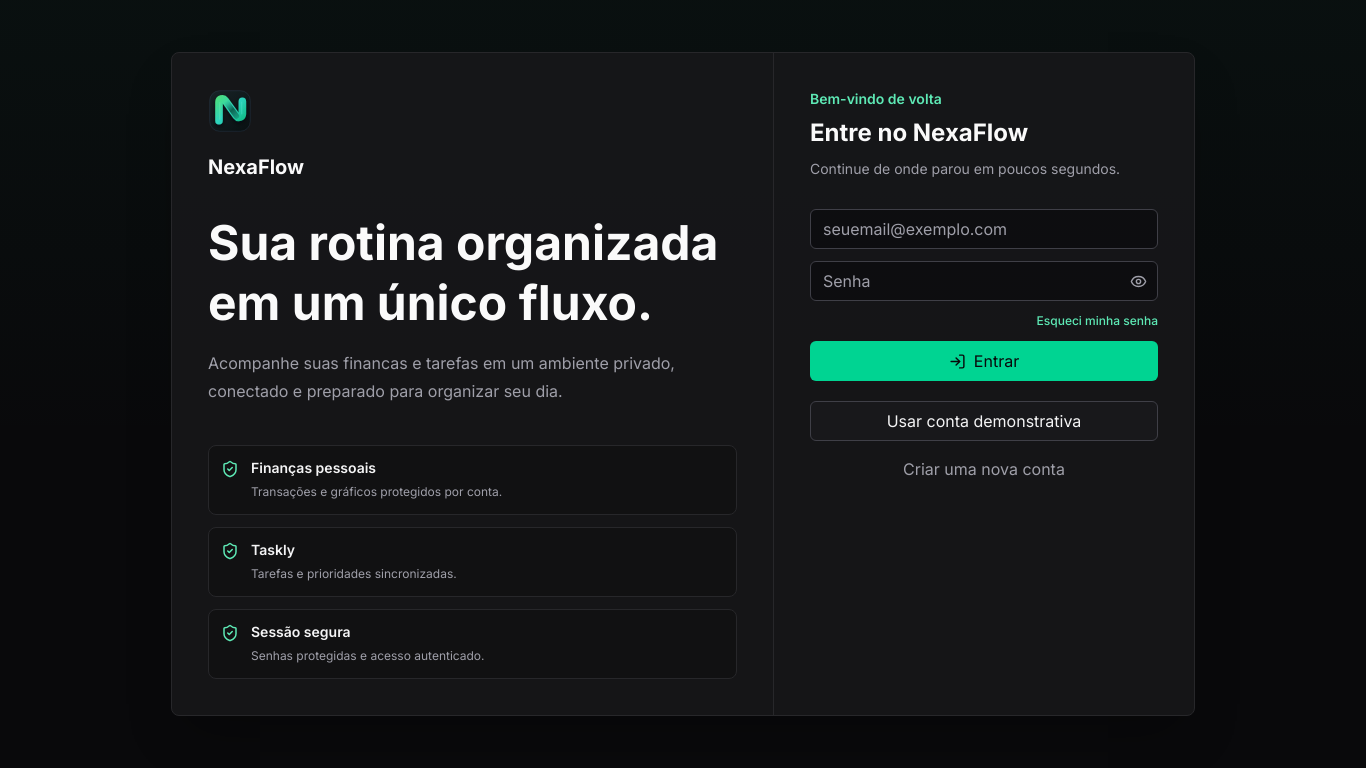
NexaFlow › exibe login e permite abrir o cadastro
Expected: the heading "Entre no NexaFlow" is shown, top-left (810, 118), bottom-right (1028, 147)
Click the button "Criar uma nova conta" at (984, 469), box top-left (810, 449), bottom-right (1158, 489)
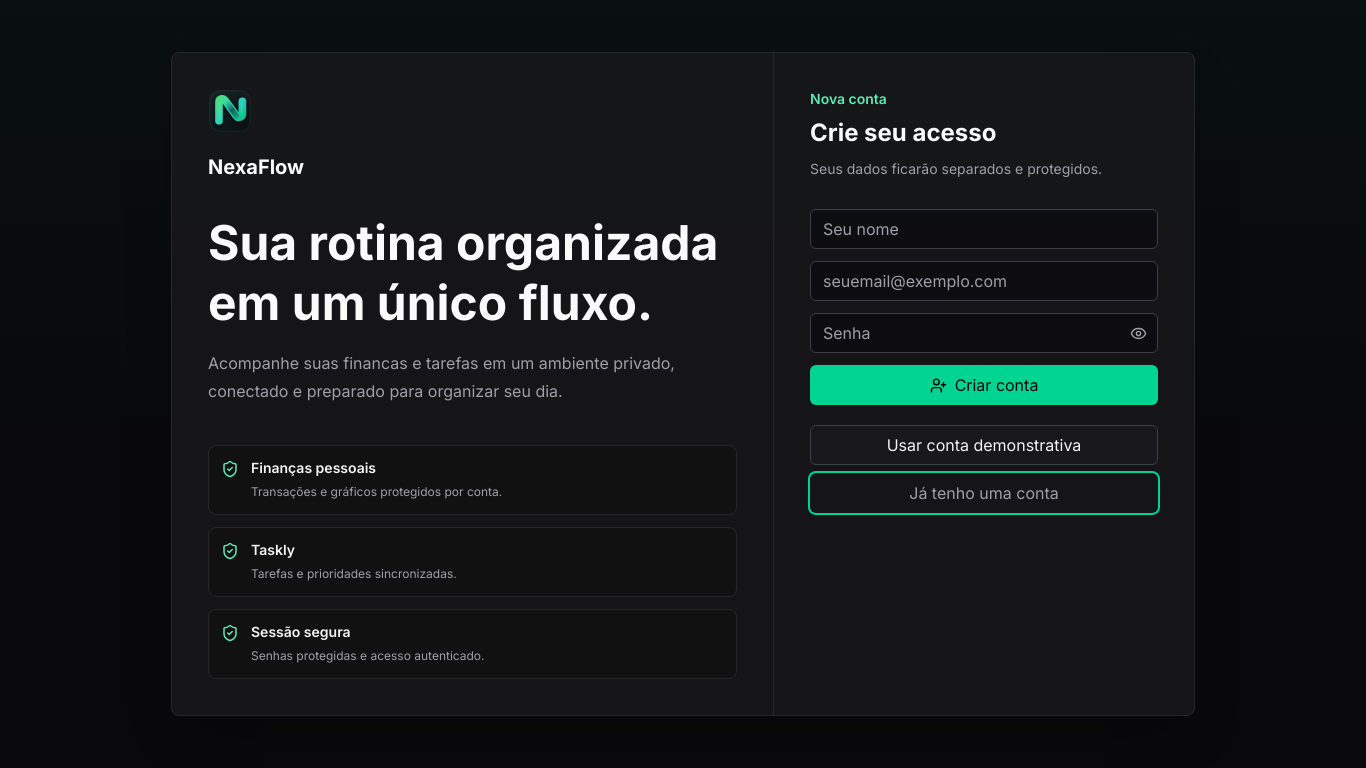
Result: the heading "Crie seu acesso" is shown at top-left (810, 118), bottom-right (996, 147)
Result: the field with placeholder "Seu nome" is shown at top-left (810, 209), bottom-right (1158, 249)
